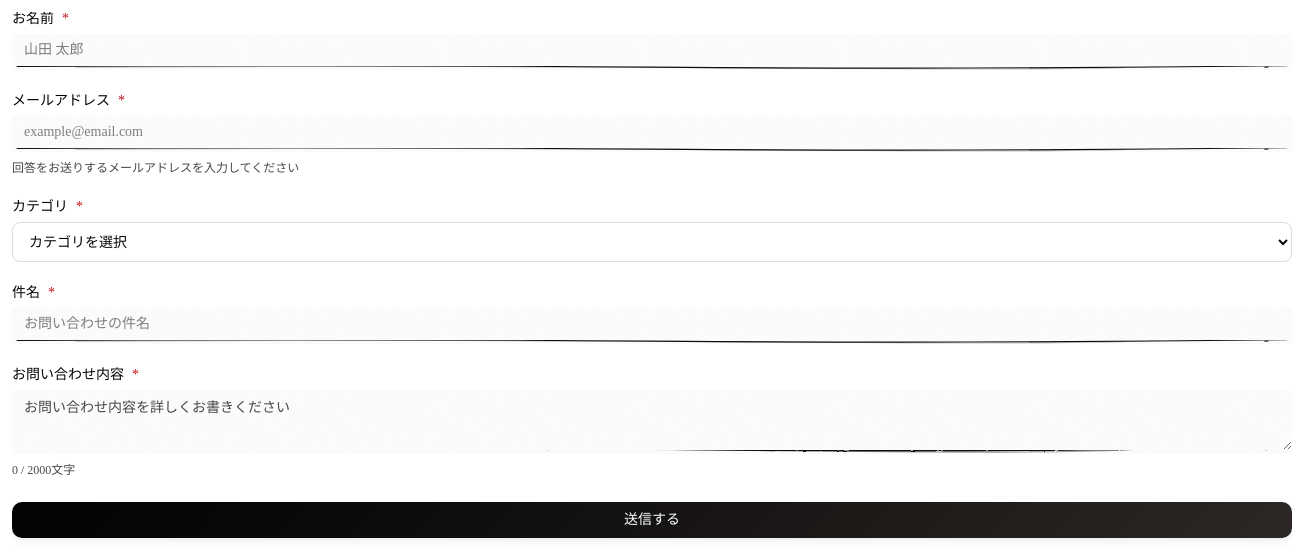
Test: ContactForm › 入力変更 › 文字数カウンターが更新される
Type "テスト" into the text box labelled "お問い合わせ内容 *" at (652, 422), box [12,390,1292,454]
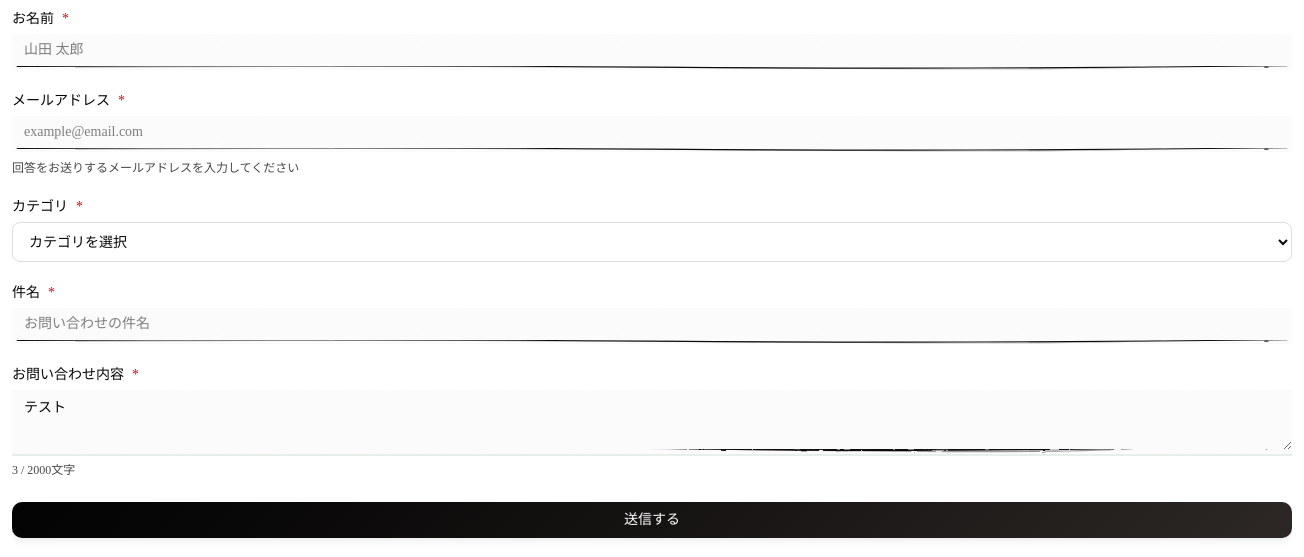
Check: the text "3 / 2000文字" is shown, box [12,463,75,477]
